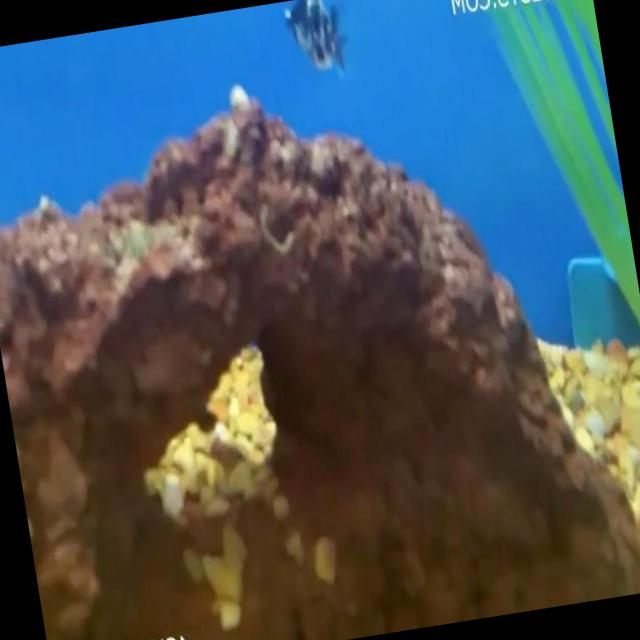PlatyFish: (282, 0, 355, 101)
